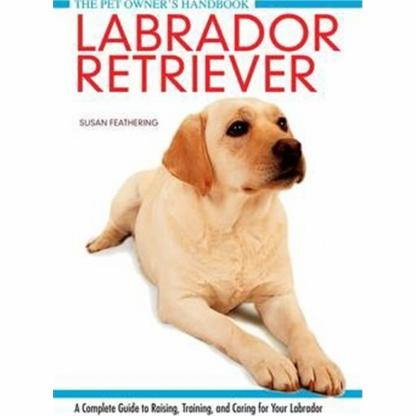dog: (82, 99, 348, 392)
